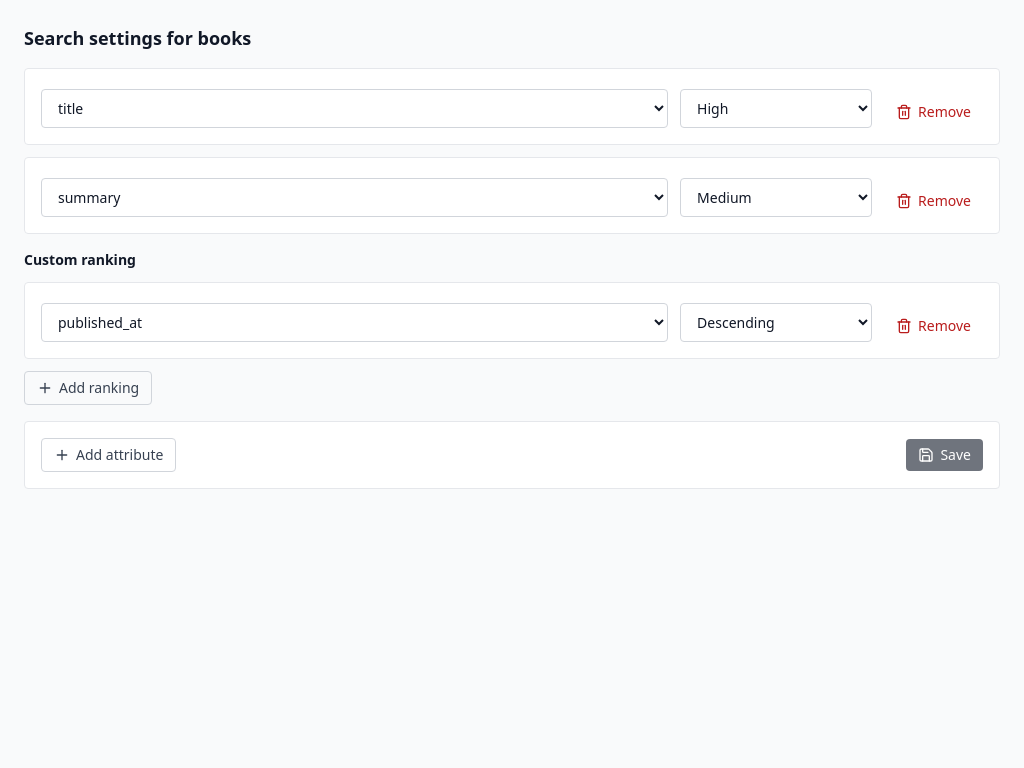
SearchSettingsEditor › supports add, edit, and remove flows with semantic weight options
Expected: the heading "Search settings for books" is shown, [24,26,251,50]
Select "Low" in the dropdown named "Weight for summary": [776, 198] box [680,178,872,217]
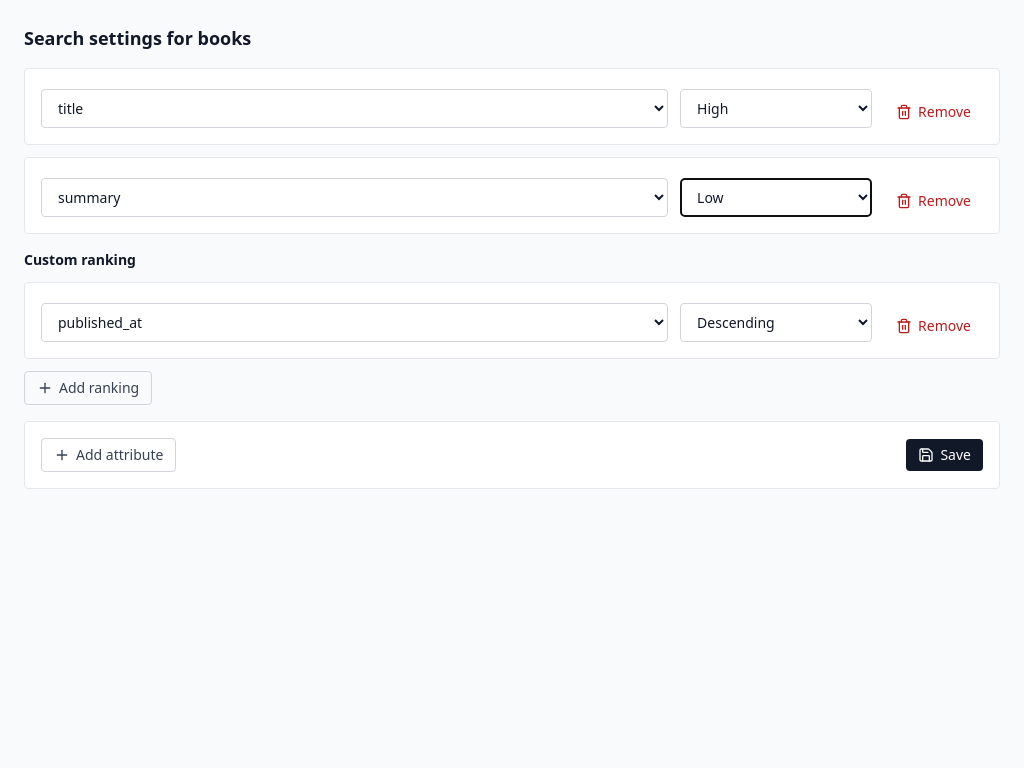
Click the button "Add attribute": [109, 455] box [41,438,176,472]
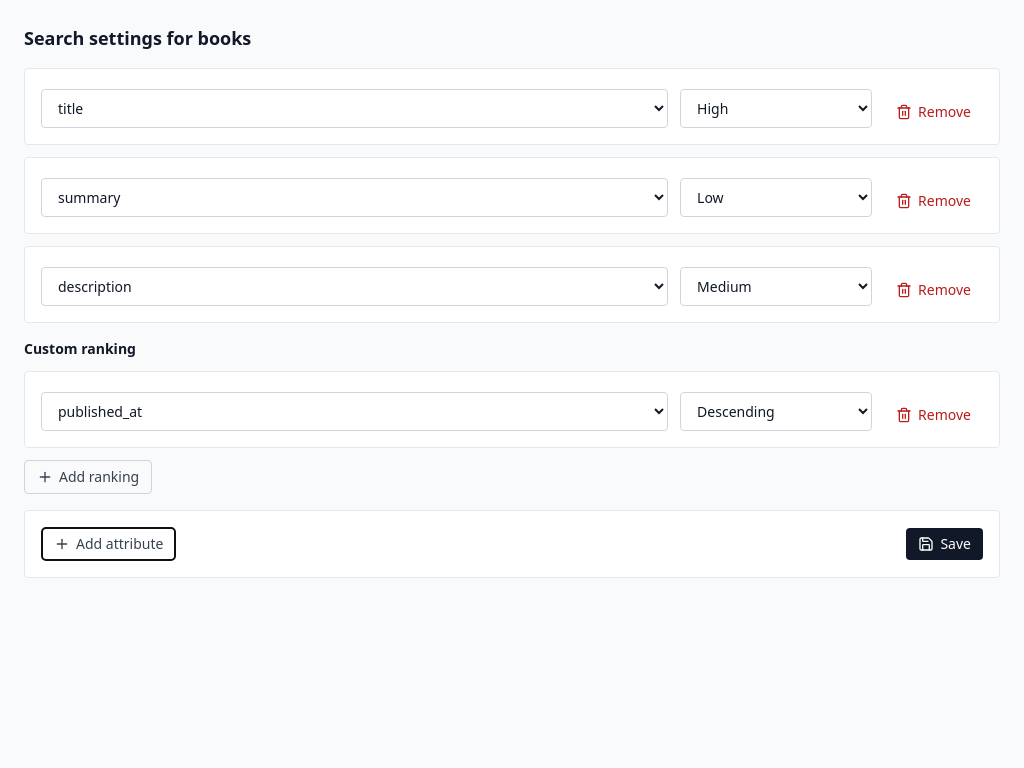
Select "description" in the dropdown named "Column for attribute 3": [355, 286] box [41,267,668,306]
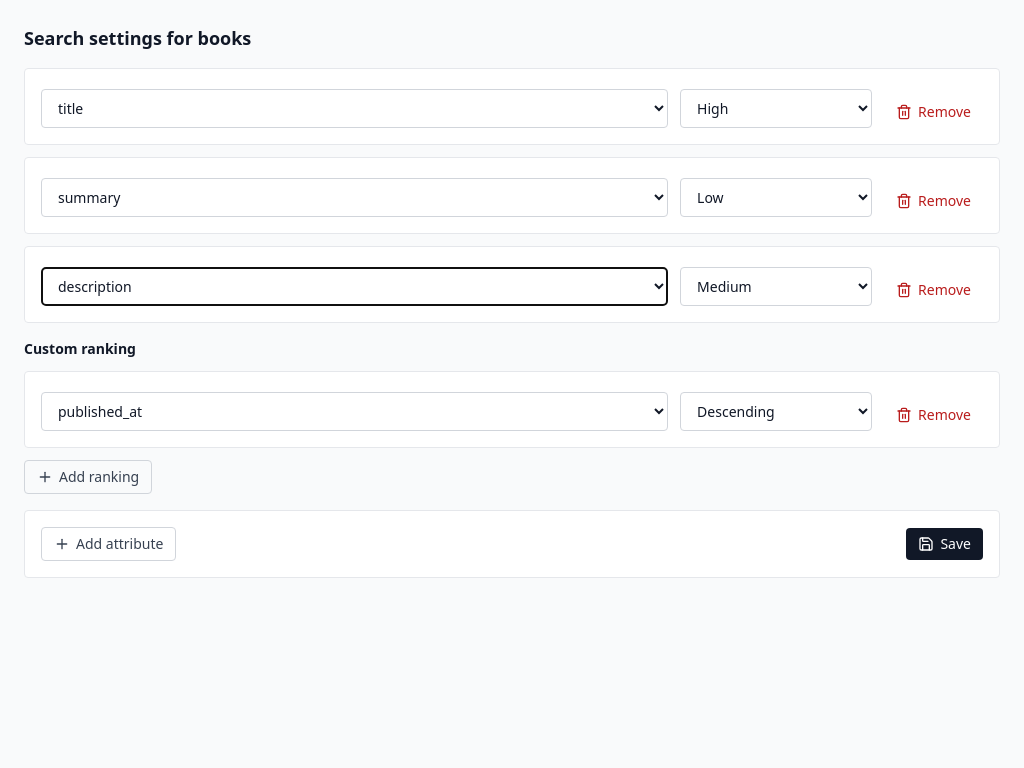
Select "Lowest" in the dropdown named "Weight for description": [776, 286] box [680,267,872,306]
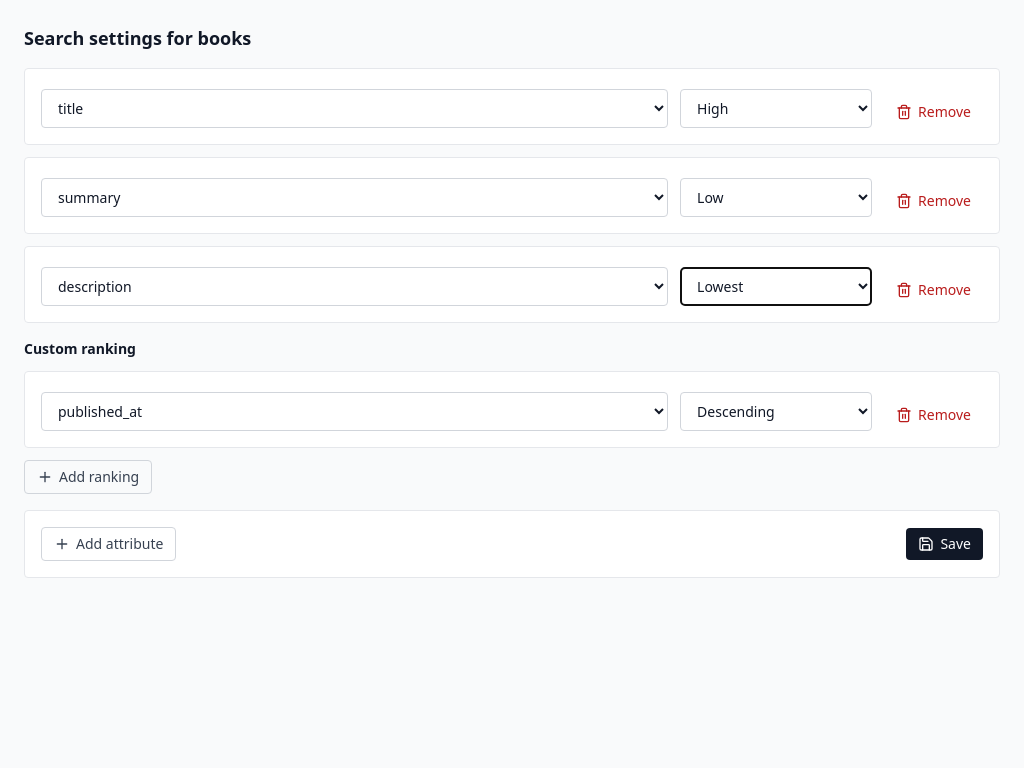
Click the button with aria-label "Remove attribute title": [934, 112] box [884,96,983,128]
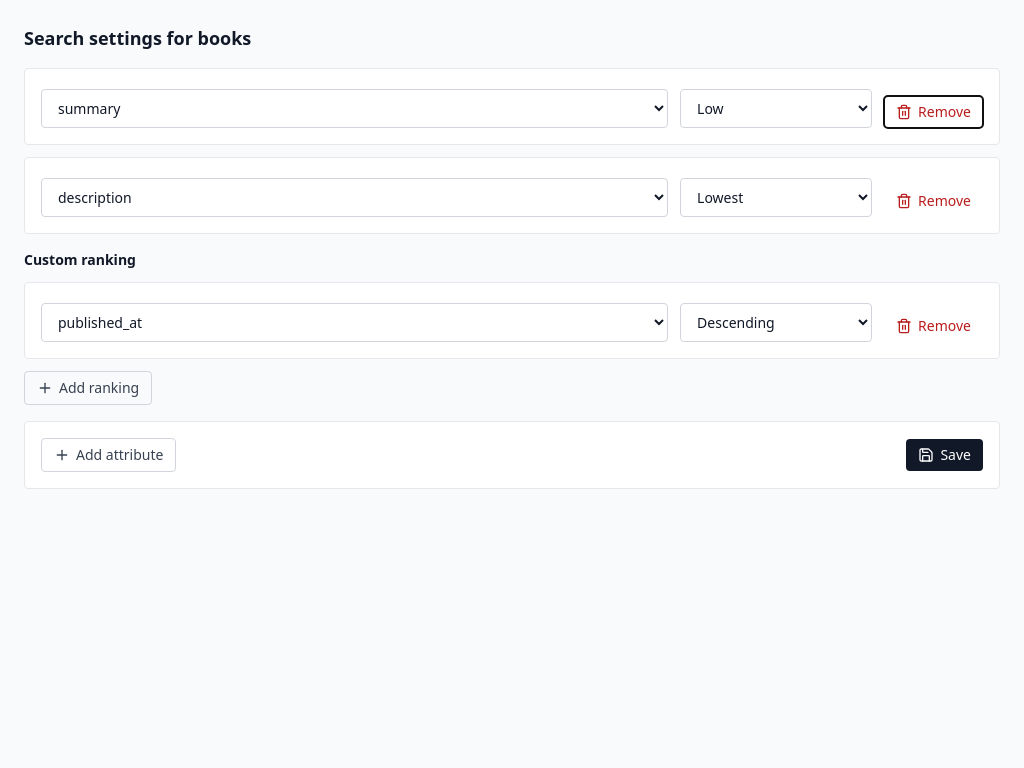
Expected: the dropdown labelled "Weight for title" is not shown
Expected: the button "Save" is enabled, [906,439,983,471]
Expected: the dropdown named "Weight for summary" shows "Low", [680,89,872,128]
